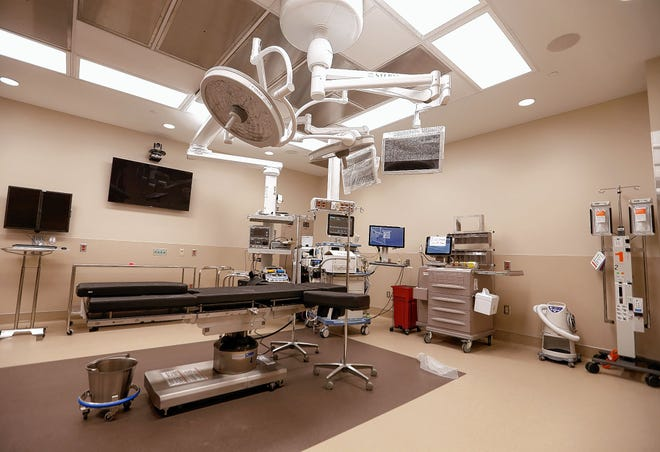TV: (110, 157, 193, 212)
bedside_monitor: (381, 125, 445, 176), (338, 144, 381, 195), (369, 225, 406, 248), (327, 213, 355, 238), (426, 235, 453, 253)
computer: (3, 185, 71, 233)
dispenser: (472, 288, 501, 317)
handle: (432, 316, 465, 324), (432, 308, 465, 316), (432, 296, 465, 304), (431, 283, 464, 291)
iv_pole: (334, 204, 365, 365), (598, 181, 642, 234)
keyboard: (12, 243, 57, 249)
medical_drawer: (415, 265, 522, 353)
mouse: (61, 247, 67, 251)
operating_bed: (75, 281, 370, 336)
surgical_light: (199, 68, 286, 149)
utility_cart: (73, 261, 202, 331)
waste_bin: (81, 351, 141, 420), (390, 286, 421, 334)
